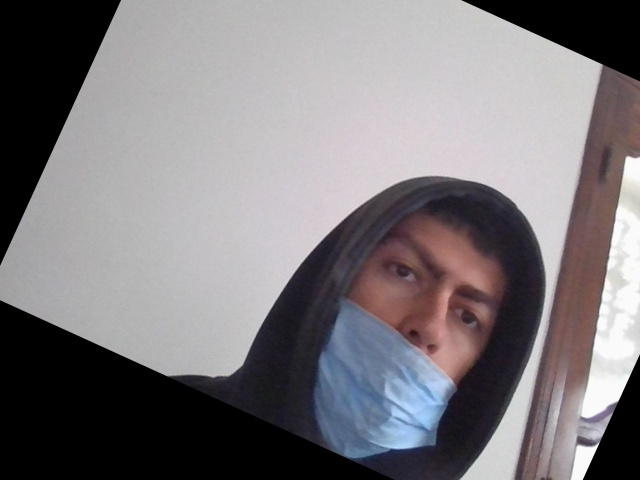mask_weared_incorrect: (316, 216, 506, 462)
